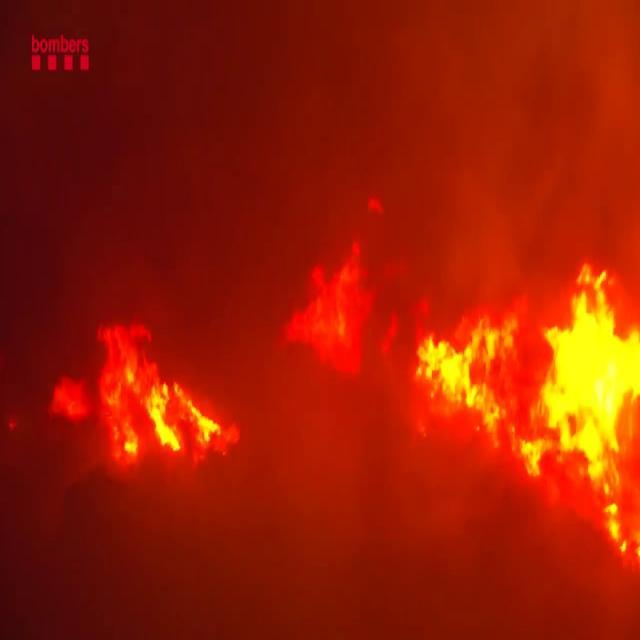Fire: (412, 242, 640, 560), (49, 316, 245, 468), (283, 234, 378, 382)
